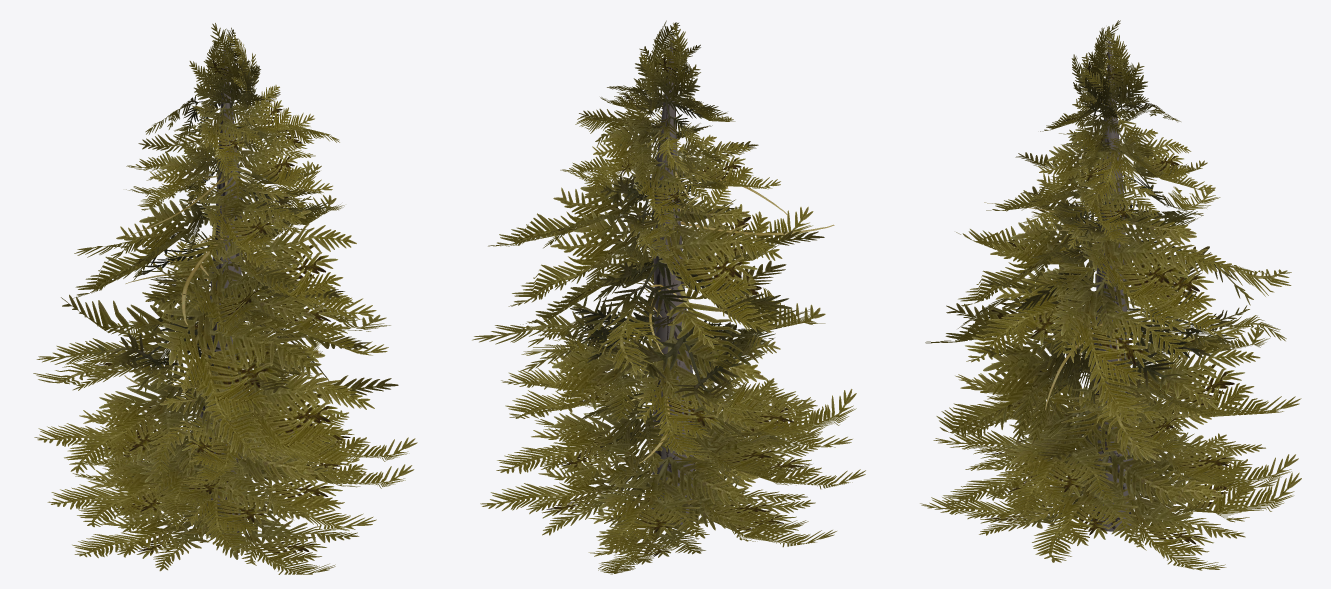
Rendered from Pinito_2.fbx.
The picture shows the model from 3 angles, left to right: view 1: azimuth 30°, elevation 25°; view 2: azimuth 150°, elevation 25°; view 3: azimuth 270°, elevation 25°; orthographic projection.
Parts seen in each view (by area): view 1: pinito_2; view 2: pinito_2; view 3: pinito_2.
Boxes of the visible parts, left/top/right/bottom form: pinito_2: left=33, top=23, right=417, bottom=574; pinito_2: left=472, top=20, right=865, bottom=574; pinito_2: left=920, top=20, right=1301, bottom=570.
Bounding box in the file's own units: 5.65 × 7.28 × 5.32.
